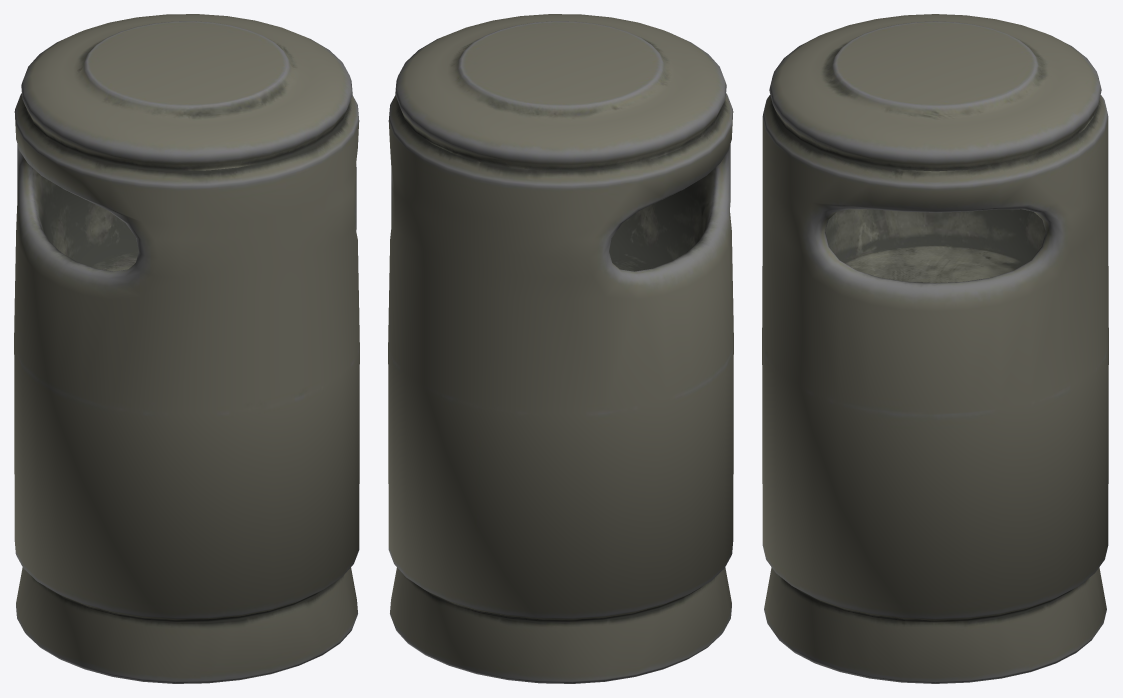
File: GarbageCan.glb
3 renders of one model, left to right at view 1: azimuth 30°, elevation 25°; view 2: azimuth 150°, elevation 25°; view 3: azimuth 270°, elevation 25°, orthographic.
Parts seen in each view (by area): view 1: Furniture_low.003; view 2: Furniture_low.003; view 3: Furniture_low.003.
Part boxes in pixels (left/top/right/bottom): Furniture_low.003: left=14, top=14, right=359, bottom=683; Furniture_low.003: left=388, top=14, right=733, bottom=683; Furniture_low.003: left=762, top=14, right=1108, bottom=683.
Bounding box in the file's own units: 0.826 × 1.44 × 0.826.
1 material, 1 textured.
